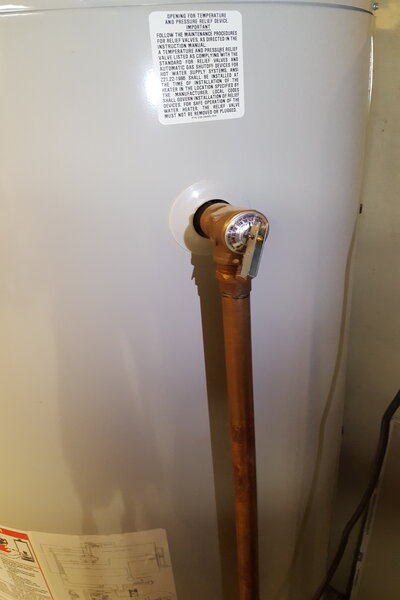valve: (191, 199, 272, 304)
